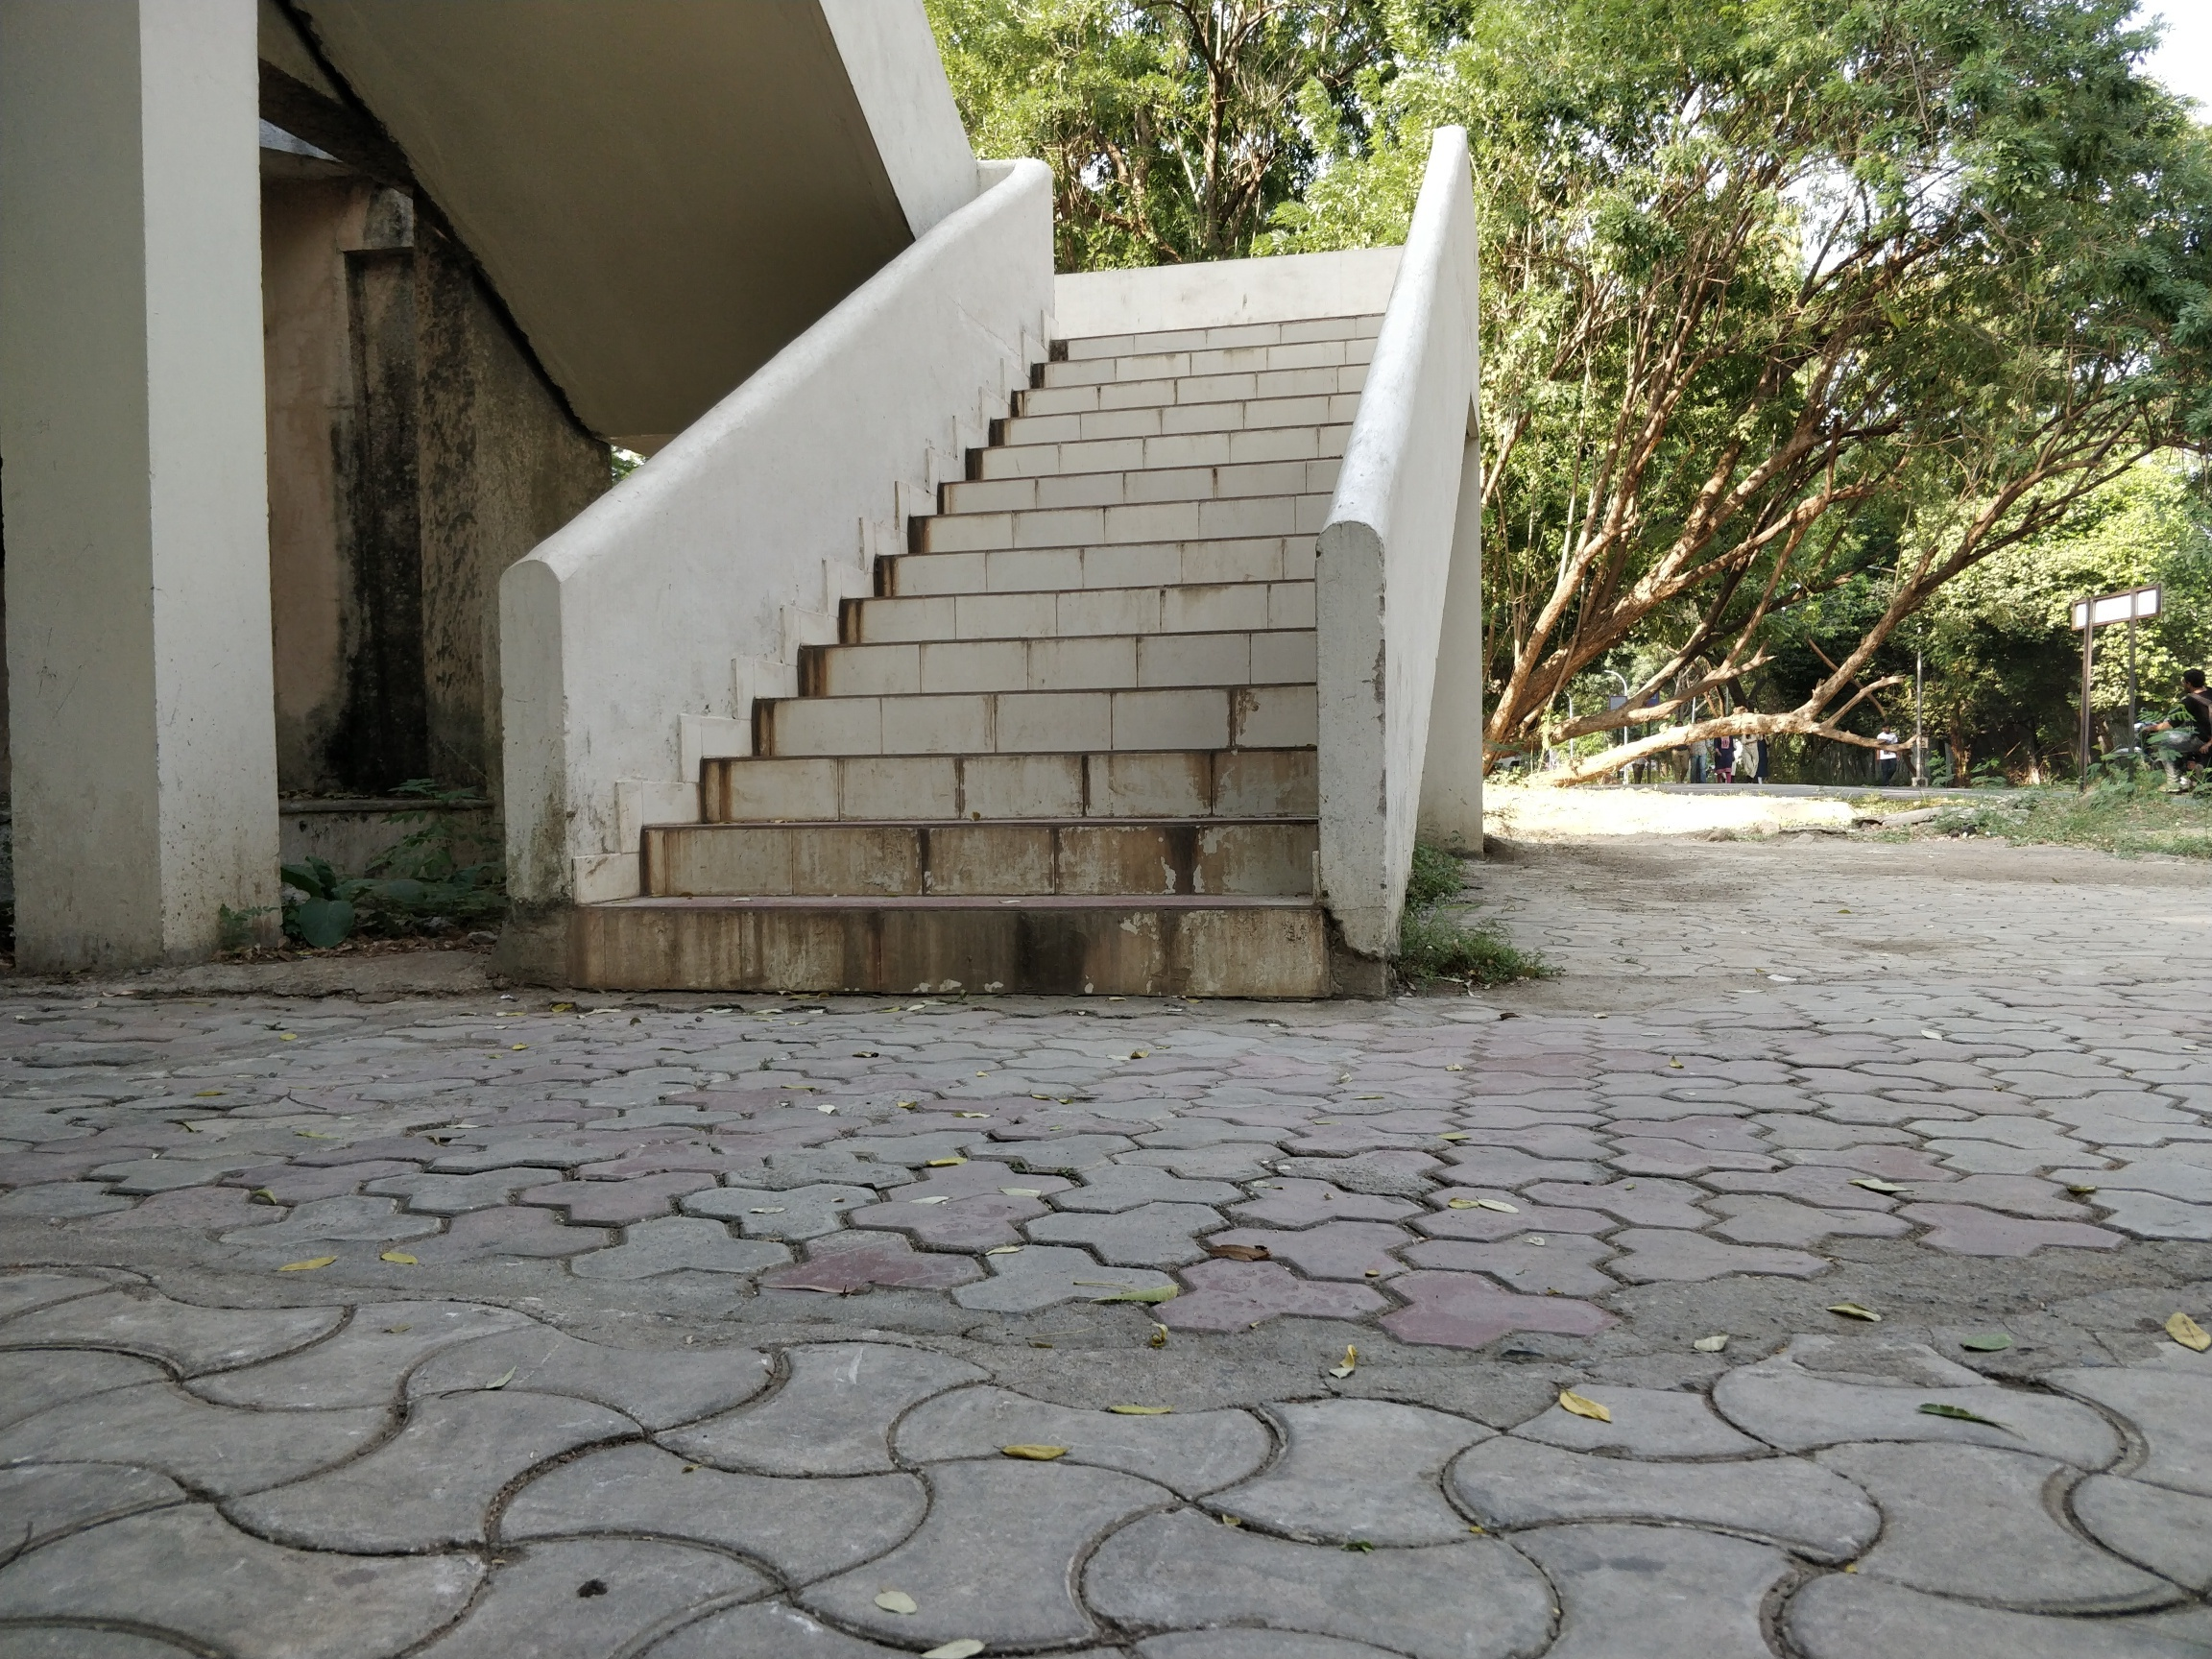stairs_up: (481, 310, 1395, 986)
